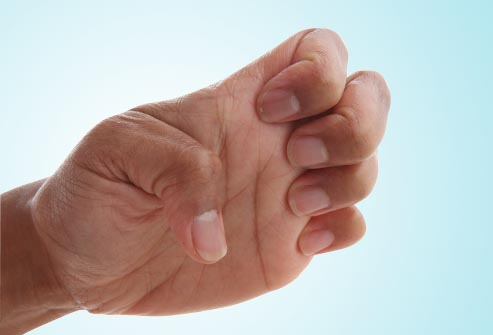finger: (247, 19, 356, 131), (293, 65, 392, 172), (281, 154, 403, 224), (301, 207, 362, 262)
